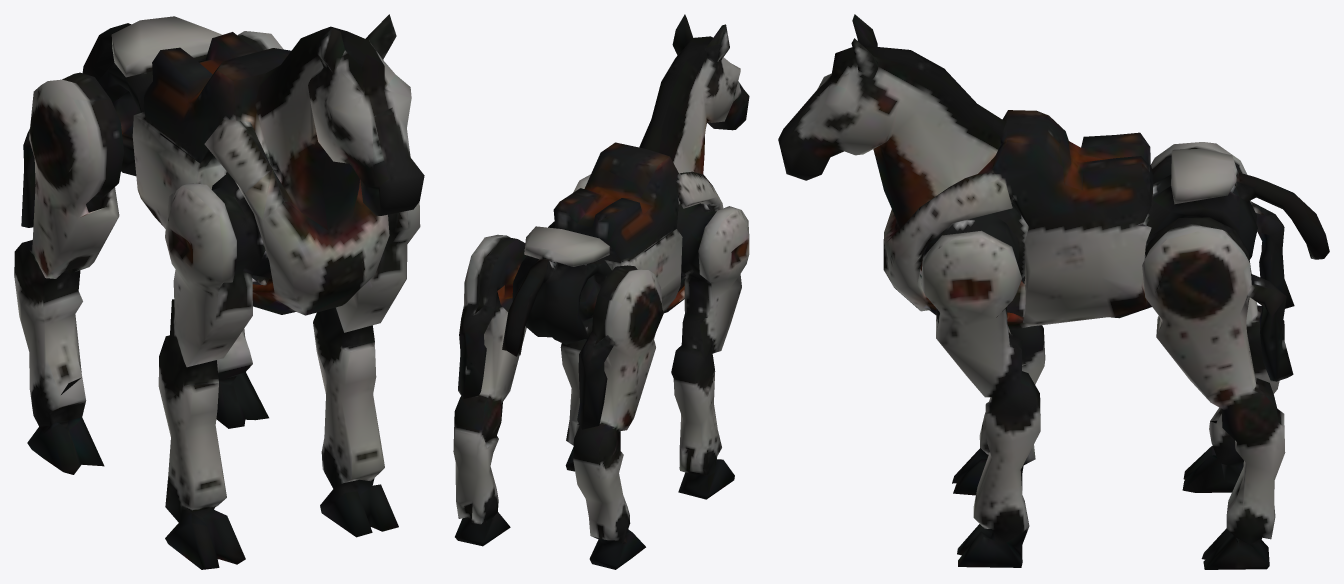
The model's file is detail_13_lo2.glb.
3 renders of one model, left to right at view 1: azimuth 30°, elevation 25°; view 2: azimuth 150°, elevation 25°; view 3: azimuth 270°, elevation 25°, orthographic. The views are drawn at different scales.
Parts seen in each view (by area): view 1: Mesh_0.001; view 2: Mesh_0.001; view 3: Mesh_0.001.
Part boxes in pixels (x1,y1,x2,y2): Mesh_0.001: (14, 14, 424, 569); Mesh_0.001: (453, 14, 749, 569); Mesh_0.001: (778, 14, 1329, 569).
Size of the model in its own units: 0.4278 by 1 by 0.9979.
Materials: 1 (1 with a texture image).
